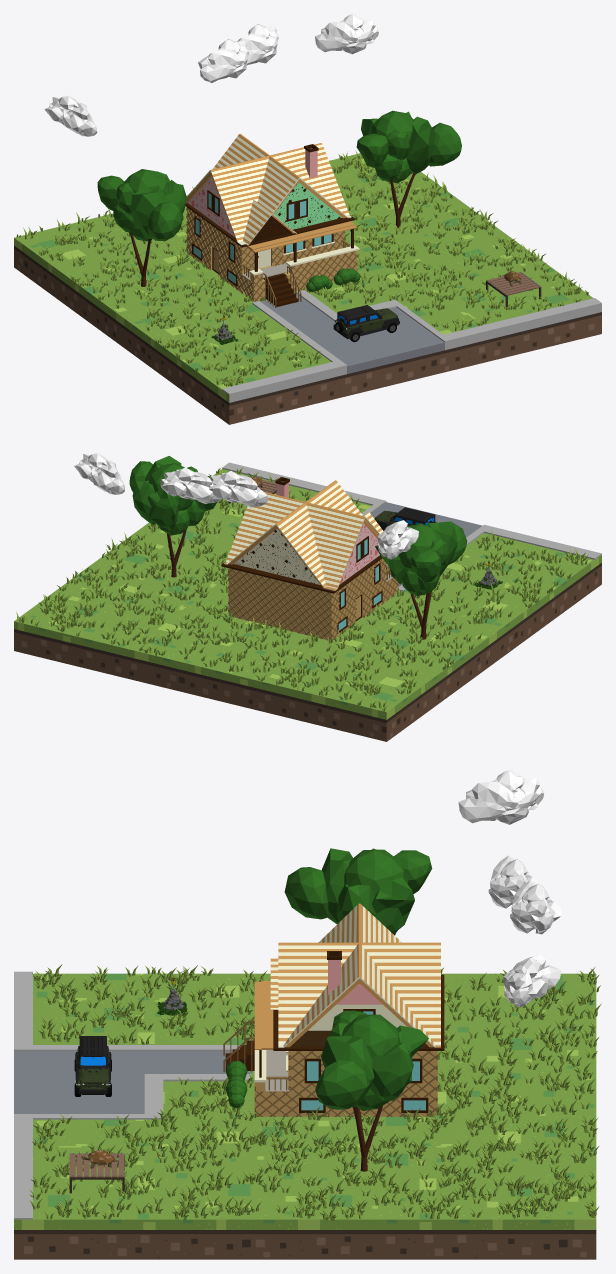
3 renders of one model, top to bottom at view 1: azimuth 30°, elevation 25°; view 2: azimuth 150°, elevation 25°; view 3: azimuth 270°, elevation 25°, orthographic. The views are drawn at different scales.
Visible parts, largest first — view 1: Cube.006, Cube.1102, Circle.012_Grass_0.192, Cube.007, tree, tree.001, VEHICLES_JEEP, Cube.009; view 2: Cube.006, Cube.1102, Circle.012_Grass_0.192, Cube.007, tree.001, tree, VEHICLES_JEEP; view 3: Cube.006, Circle.012_Grass_0.192, Cube.1102, tree, Cube.007, tree.001, VEHICLES_JEEP, Cube.009.
Part boxes in pixels (left/top/right/bottom): Cube.006: left=14, top=153, right=601, bottom=424; Cube.1102: left=185, top=134, right=359, bottom=307; Circle.012_Grass_0.192: left=16, top=150, right=588, bottom=386; Cube.007: left=44, top=14, right=378, bottom=136; tree: left=356, top=110, right=461, bottom=228; tree.001: left=97, top=169, right=186, bottom=286; VEHICLES_JEEP: left=333, top=305, right=399, bottom=342; Cube.009: left=486, top=272, right=541, bottom=306; Cube.006: left=14, top=462, right=601, bottom=741; Cube.1102: left=221, top=477, right=398, bottom=641; Circle.012_Grass_0.192: left=16, top=468, right=588, bottom=711; Cube.007: left=74, top=453, right=418, bottom=559; tree.001: left=375, top=521, right=467, bottom=639; tree: left=129, top=456, right=216, bottom=577; VEHICLES_JEEP: left=375, top=507, right=436, bottom=530; Cube.006: left=14, top=971, right=596, bottom=1259; Circle.012_Grass_0.192: left=29, top=964, right=601, bottom=1220; Cube.1102: left=223, top=903, right=444, bottom=1116; tree: left=315, top=1010, right=428, bottom=1171; Cube.007: left=458, top=770, right=561, bottom=1007; tree.001: left=284, top=848, right=432, bottom=935; VEHICLES_JEEP: left=74, top=1036, right=111, bottom=1096; Cube.009: left=69, top=1153, right=124, bottom=1193.
Bounding box in the file's own units: 4071 × 2179 × 4040.
38 materials, 4 textured.
